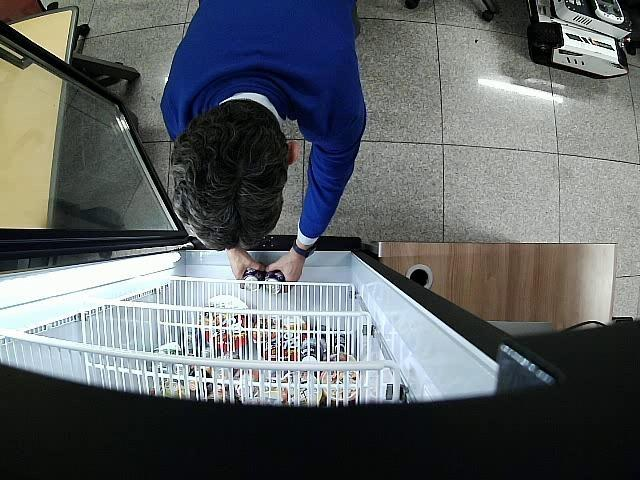14_welchsGrape: (242, 268, 264, 290), (265, 270, 285, 294)
